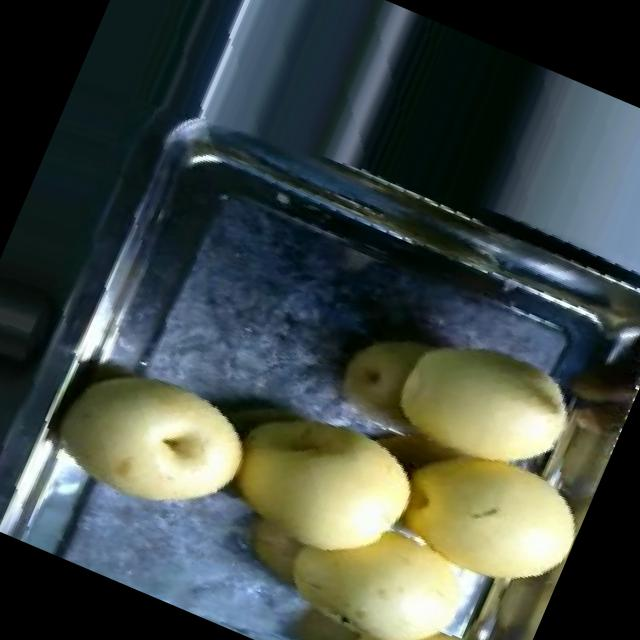Fruit: (169, 355, 453, 640), (319, 392, 598, 640), (358, 296, 622, 522), (238, 469, 559, 640), (29, 334, 275, 552)
